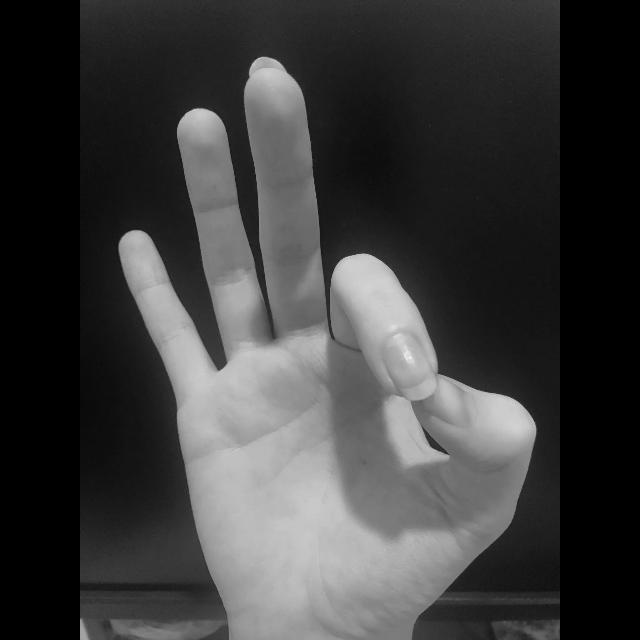F: (113, 50, 541, 632)
